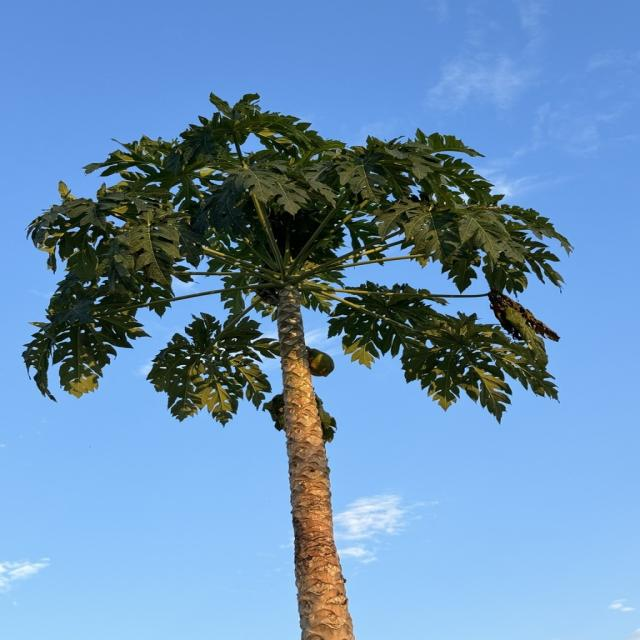Papaya-Tree: (20, 71, 633, 640)
